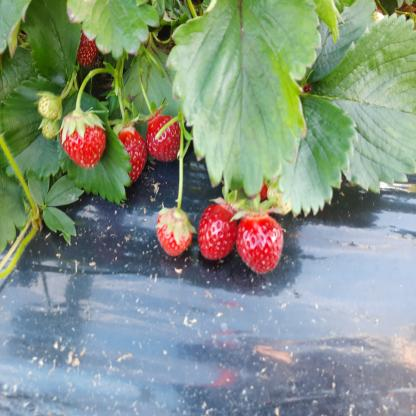ripe: (236, 216, 282, 273), (60, 114, 105, 166), (201, 205, 240, 257), (157, 211, 190, 259), (66, 27, 104, 68), (109, 126, 139, 176), (150, 114, 176, 161)
unripe: (37, 90, 65, 120), (36, 113, 61, 138)
